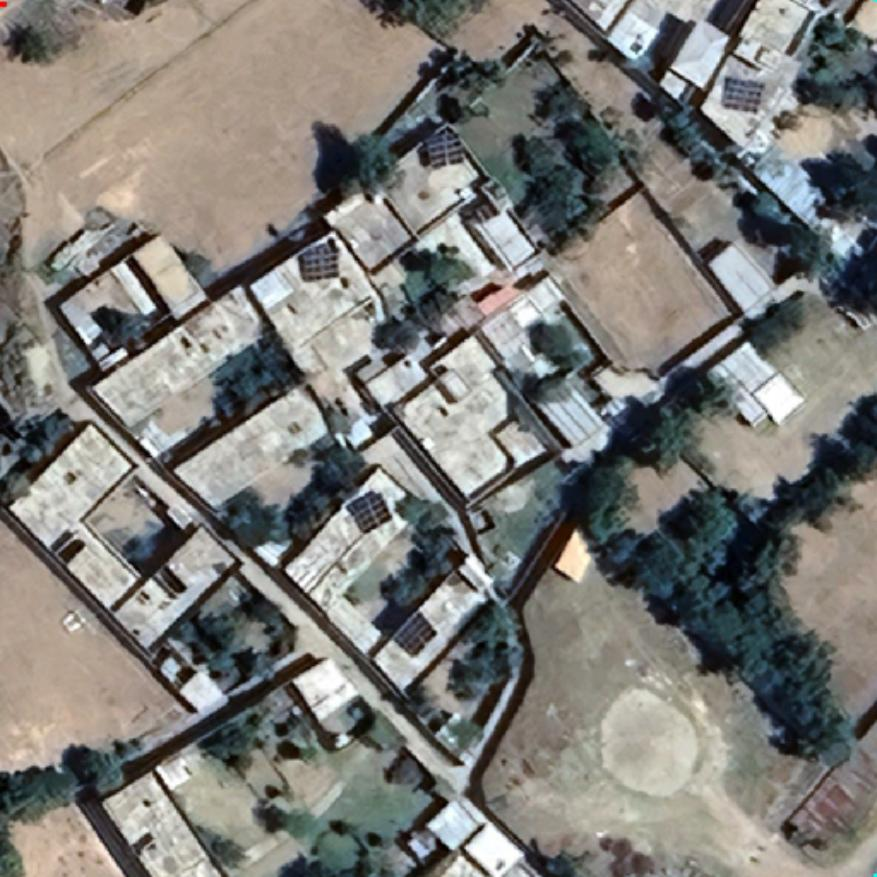Solarpanel: (392, 610, 438, 658), (346, 488, 394, 534), (298, 242, 340, 280), (722, 78, 764, 113), (426, 131, 465, 167)
